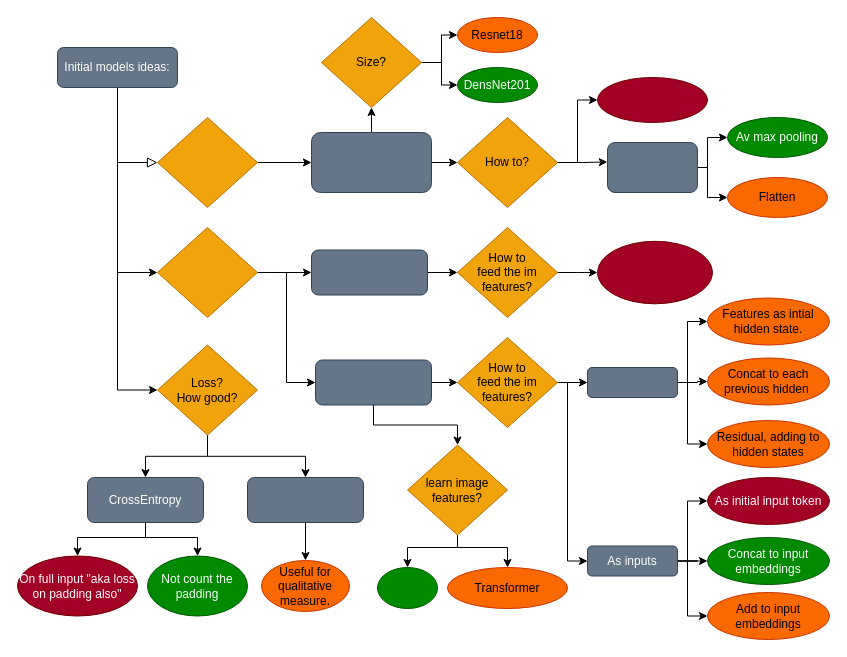
The diagram is 847 pixels wide and 657 high, and some of its shapes have lost their labels. The centre of each missing label's shape, as x and y in pixels:
"As it comes out" goes at pixel 652 99.
"Bypass embedding layer" goes at pixel 654 272.
"Caption generation?" goes at pixel 207 272.
"FC" goes at pixel 407 587.
"Feature extraction?" goes at pixel 207 162.
"GPT2" goes at pixel 369 272.
"Hidden states" goes at pixel 632 382.
"LSTM" goes at pixel 373 382.
"Remove last layers" goes at pixel 652 167.
"Resnet" goes at pixel 371 162.
"Sentence similarity" goes at pixel 305 499.
